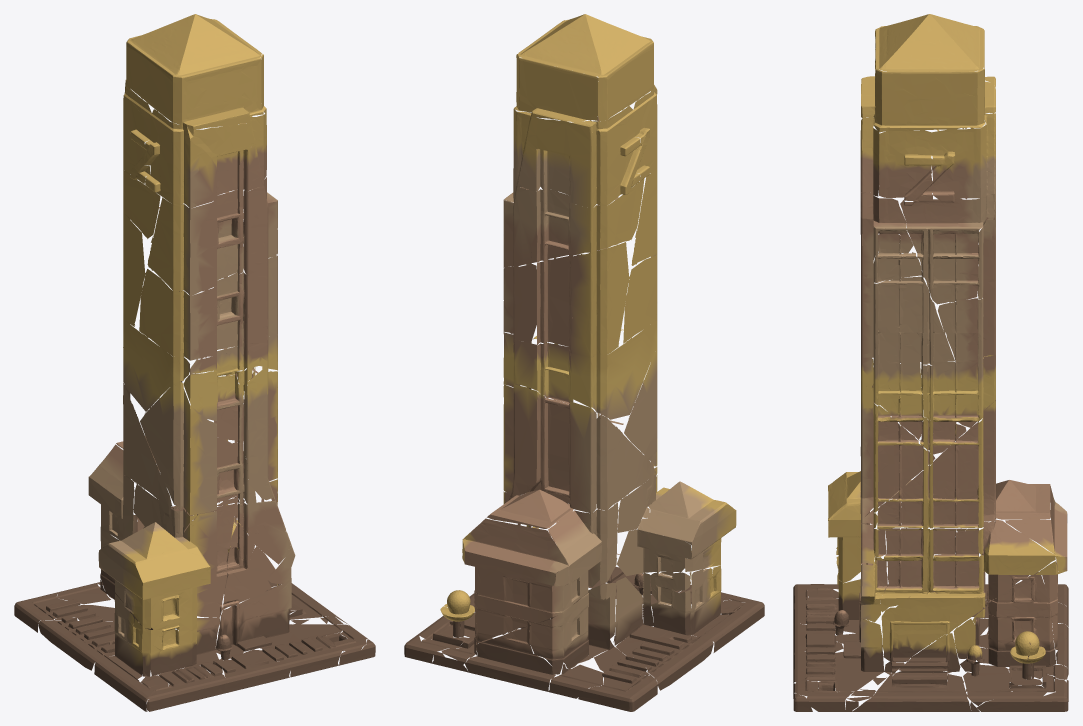
File: hero-z-tower.glb
3 views of the same model, side by side, from view 1: azimuth 30°, elevation 25°; view 2: azimuth 150°, elevation 25°; view 3: azimuth 270°, elevation 25° (orthographic). The views are drawn at different scales.
Parts seen in each view (by area): view 1: world; view 2: world; view 3: world.
Part boxes in pixels (x1,y1,x2,y2): world: [14, 14, 375, 711]; world: [404, 14, 764, 711]; world: [793, 14, 1068, 711].
Bounding box in the file's own units: 2.69 × 6.93 × 2.7.
